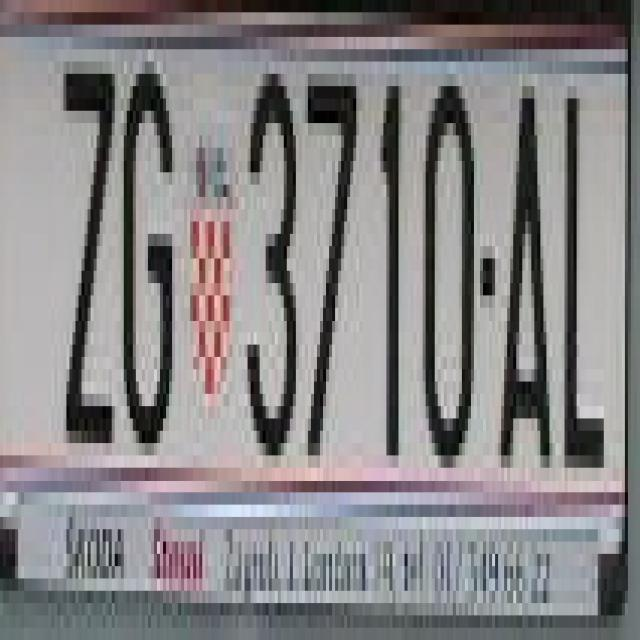0: (423, 86, 480, 480)
1: (372, 74, 408, 455)
3: (241, 49, 299, 456)
7: (299, 74, 356, 455)
A: (498, 61, 553, 468)
G: (124, 74, 175, 455)
L: (558, 74, 607, 455)
Z: (60, 49, 115, 418)
